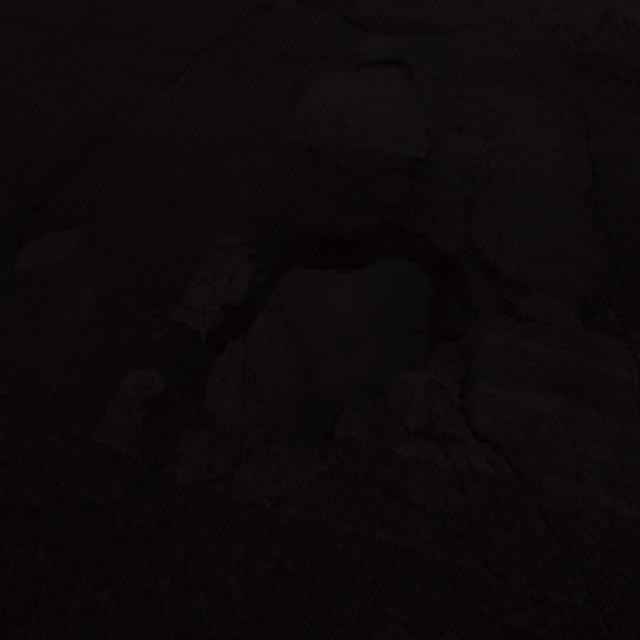Pothole: (165, 207, 482, 465), (270, 50, 442, 170), (577, 144, 640, 360), (11, 218, 97, 281)
